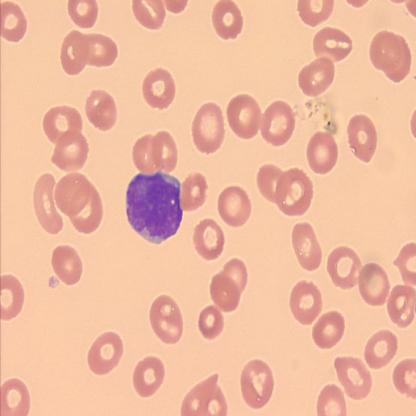Blast: (123, 170, 184, 245)
